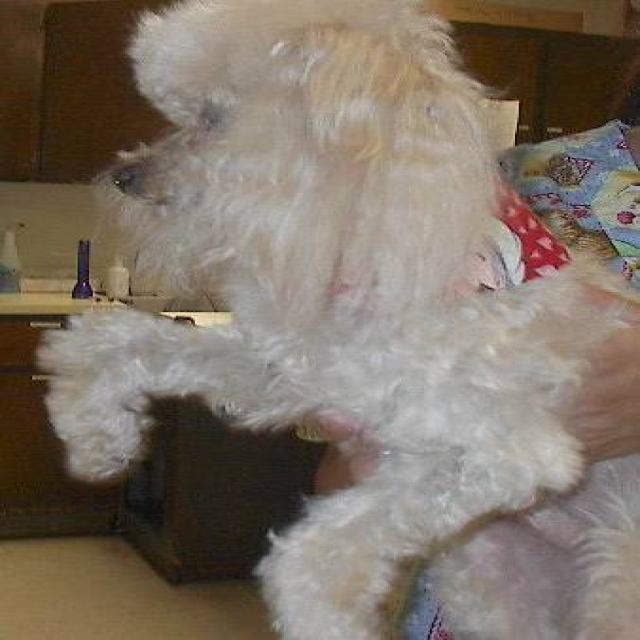dog: (32, 0, 638, 639)
